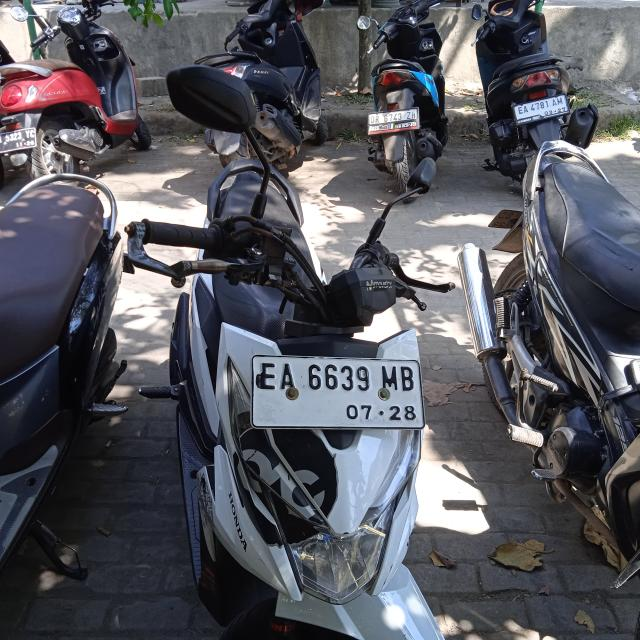plate: (251, 354, 427, 429), (513, 94, 570, 126), (364, 107, 421, 136), (0, 128, 37, 154)
